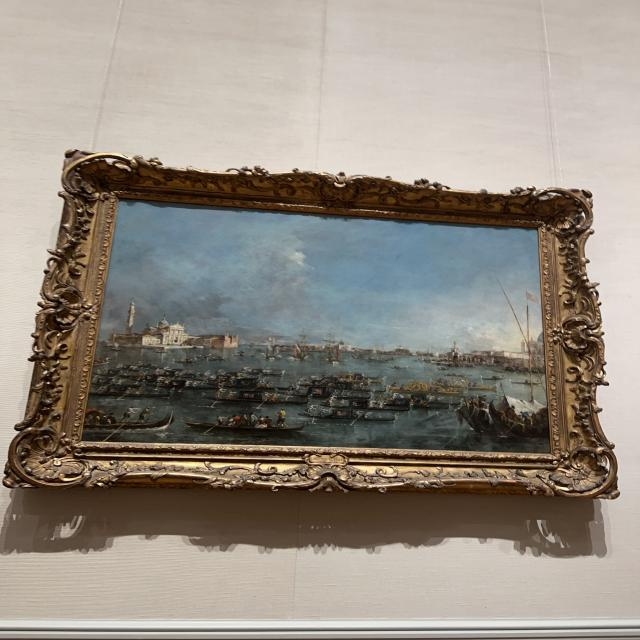ships: (85, 201, 549, 449)
